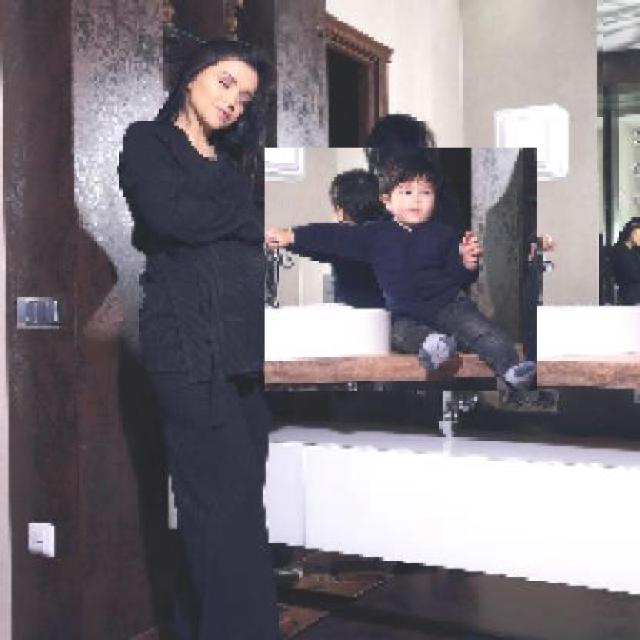child: (263, 148, 537, 392)
